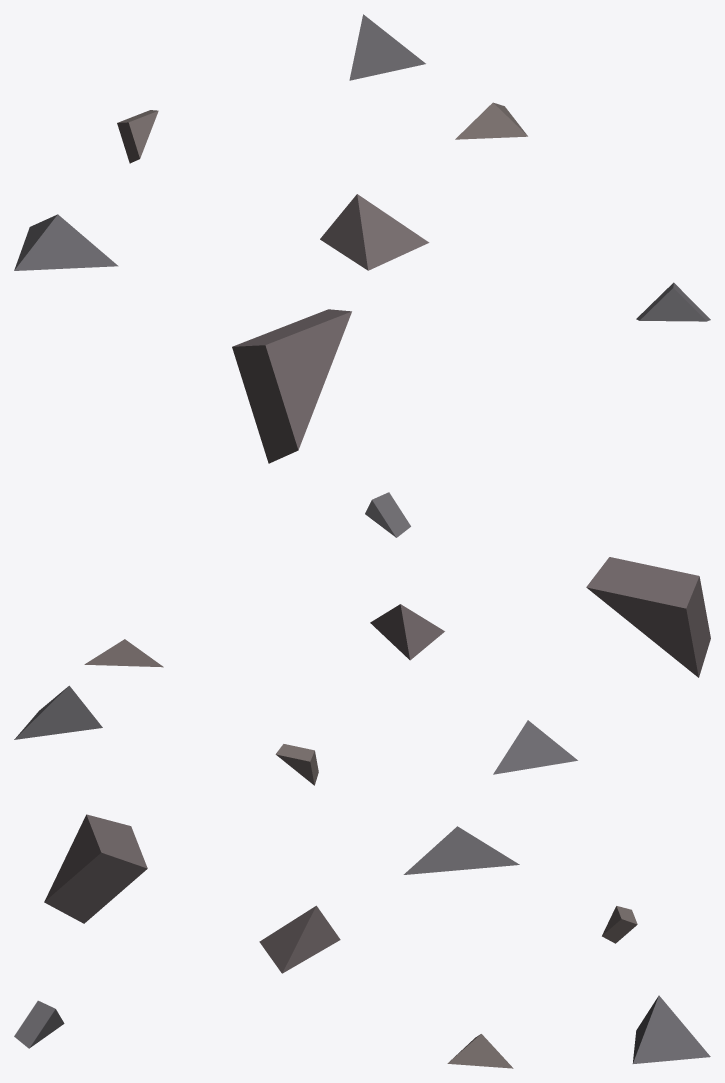
Rendered from Rocks_Sharp_s_07.fbx.
3 views of the same model, one above another, from view 1: azimuth 30°, elevation 25°; view 2: azimuth 150°, elevation 25°; view 3: azimuth 270°, elevation 25° (orthographic). The views are drawn at different scales.
Parts seen in each view (by area): view 1: Rocks_Sharp_s_07; view 2: Rocks_Sharp_s_07; view 3: Rocks_Sharp_s_07.
Boxes of the visible parts, <box> form: Rocks_Sharp_s_07: <box>14,14,710,463</box>; Rocks_Sharp_s_07: <box>14,492,710,785</box>; Rocks_Sharp_s_07: <box>14,814,710,1068</box>.
Bounding box in the file's own units: 113 × 25.48 × 140.
